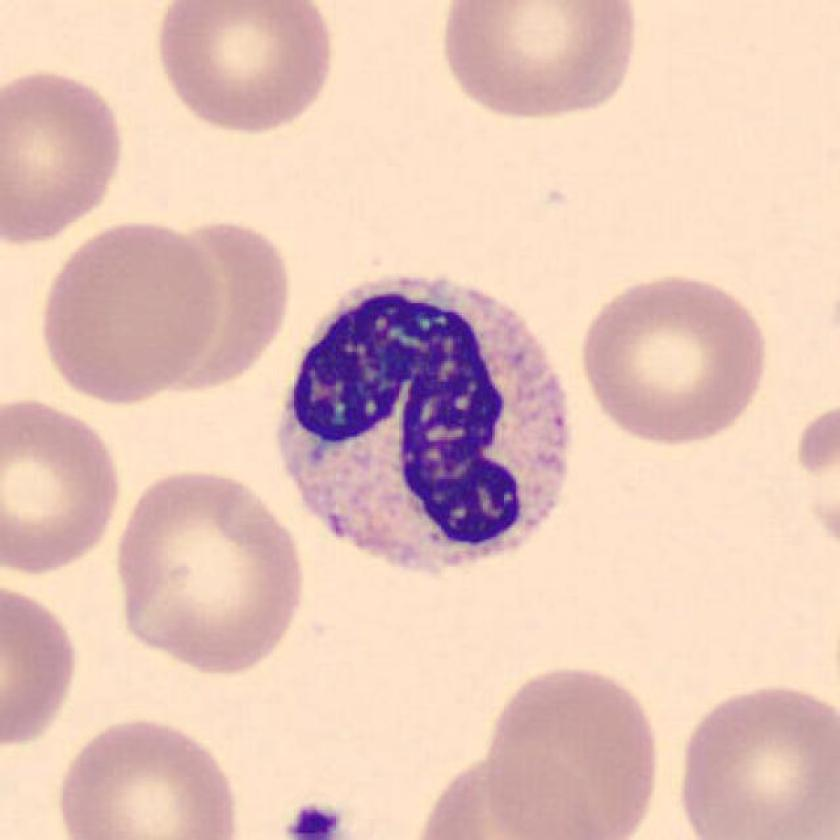neutrophil: (279, 275, 567, 568)
